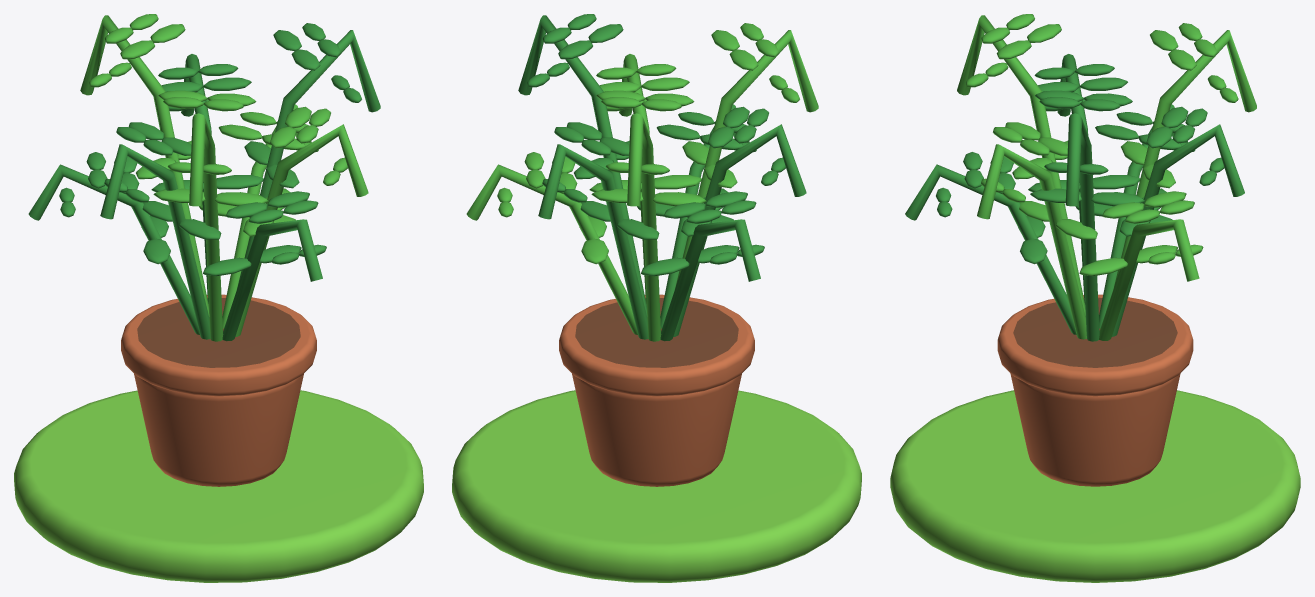
File: DecorFern.fbx
The picture shows the model from 3 angles, left to right: view 1: azimuth 30°, elevation 25°; view 2: azimuth 150°, elevation 25°; view 3: azimuth 270°, elevation 25°; orthographic projection.
Visible parts, largest first — view 1: DecorFern mesh; view 2: DecorFern mesh; view 3: DecorFern mesh.
Boxes of the visible parts, x1=… form: DecorFern mesh: x1=14, y1=14, x2=423, y2=582; DecorFern mesh: x1=452, y1=14, x2=861, y2=582; DecorFern mesh: x1=890, y1=14, x2=1300, y2=582.
Bounding box in the file's own units: 0.34 × 0.4103 × 0.34.
